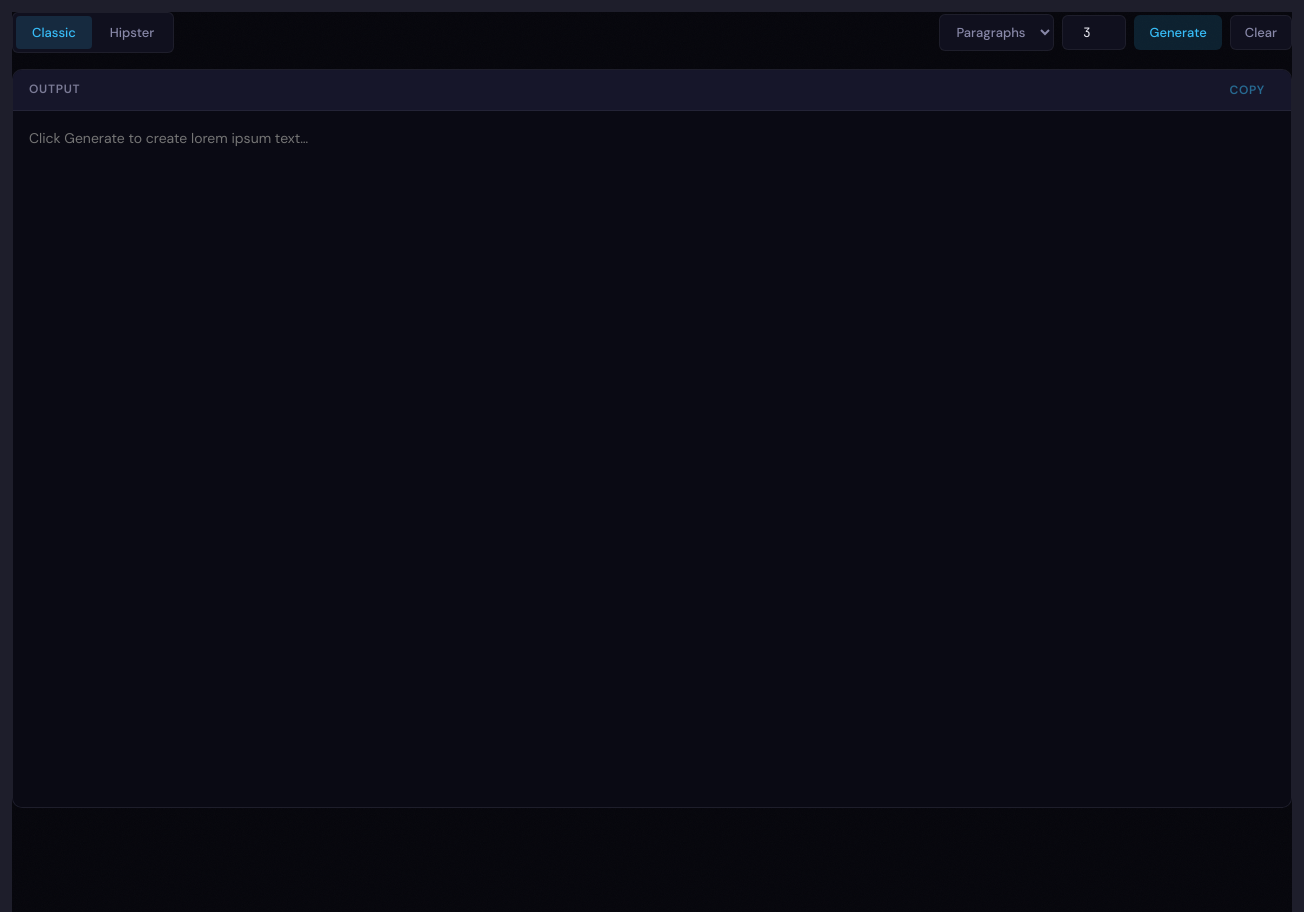
Test: LoremGenerator › shows word count after generating
Click the button "Generate" at (1178, 32), box [1134, 15, 1222, 50]
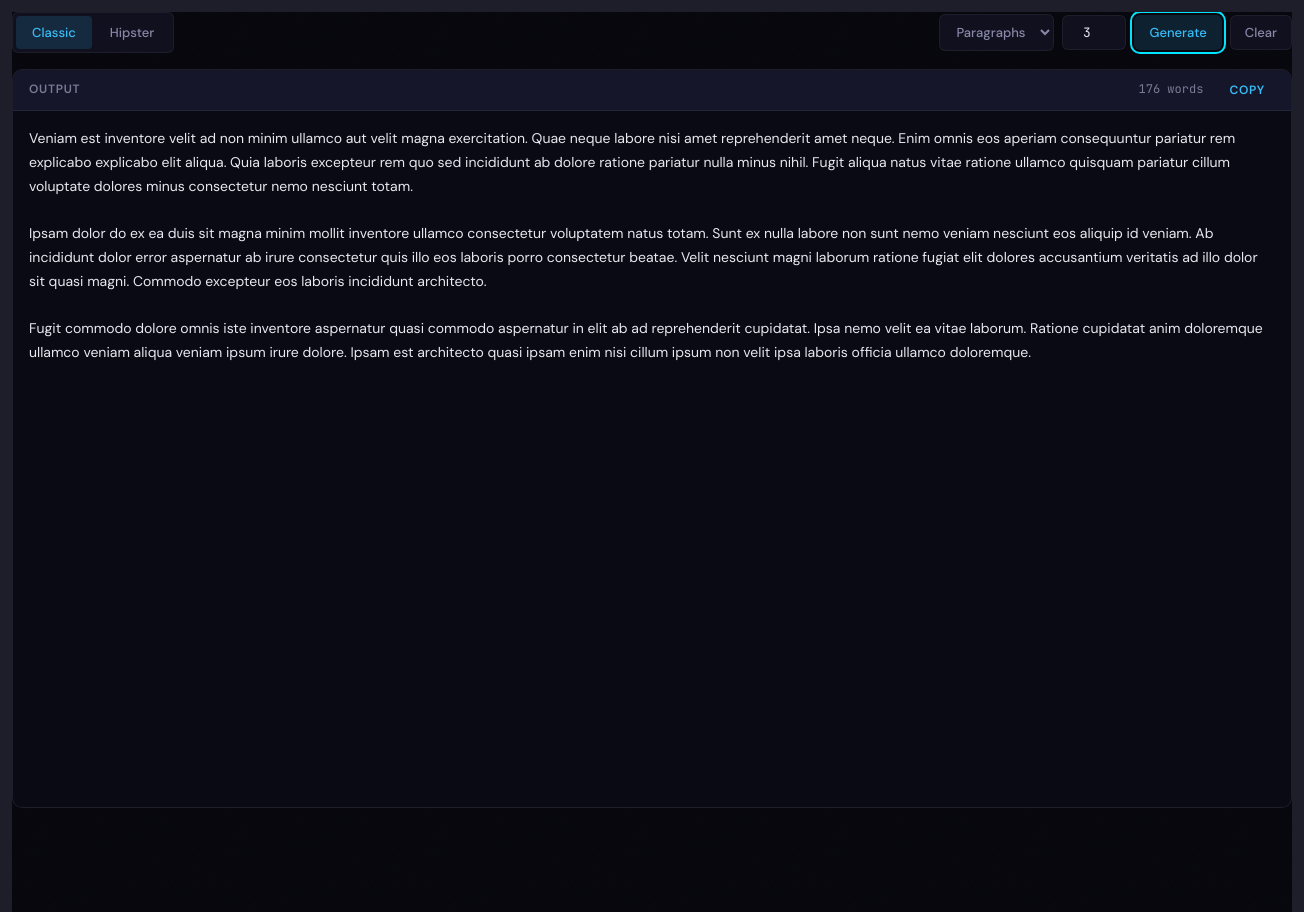
Result: the text "176 words" is shown at [1139, 80, 1203, 100]
